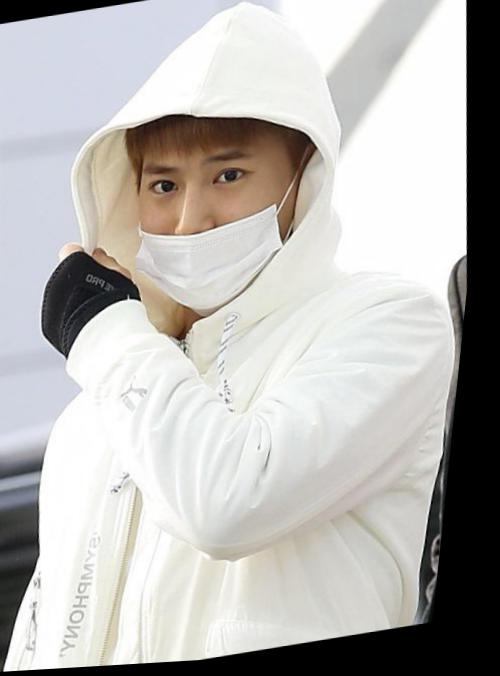WRONG: (128, 127, 309, 314)
